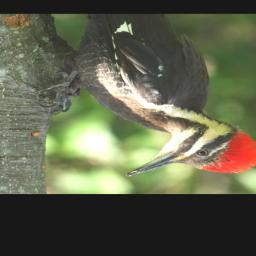Woodpecker: (40, 15, 256, 177)
